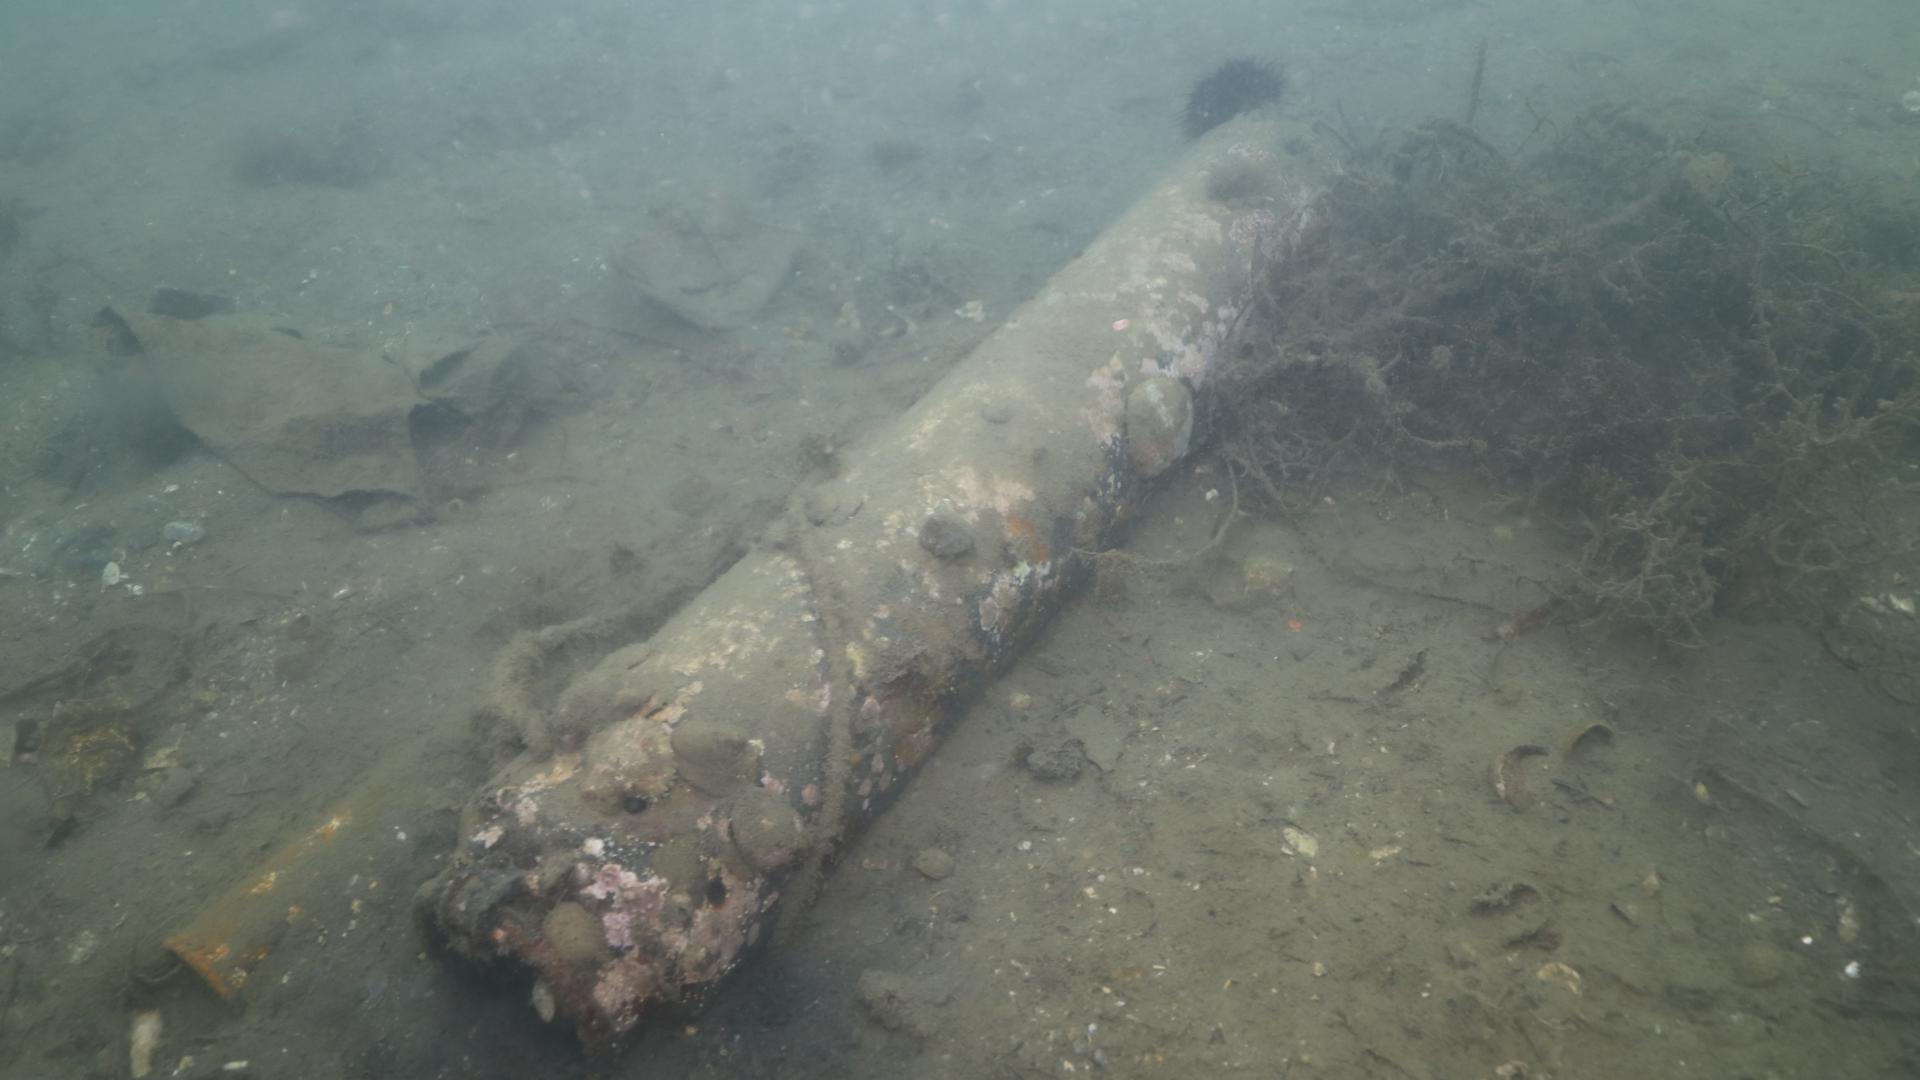eel fish trap: (418, 111, 1361, 1054)
rope: (764, 480, 852, 953)
